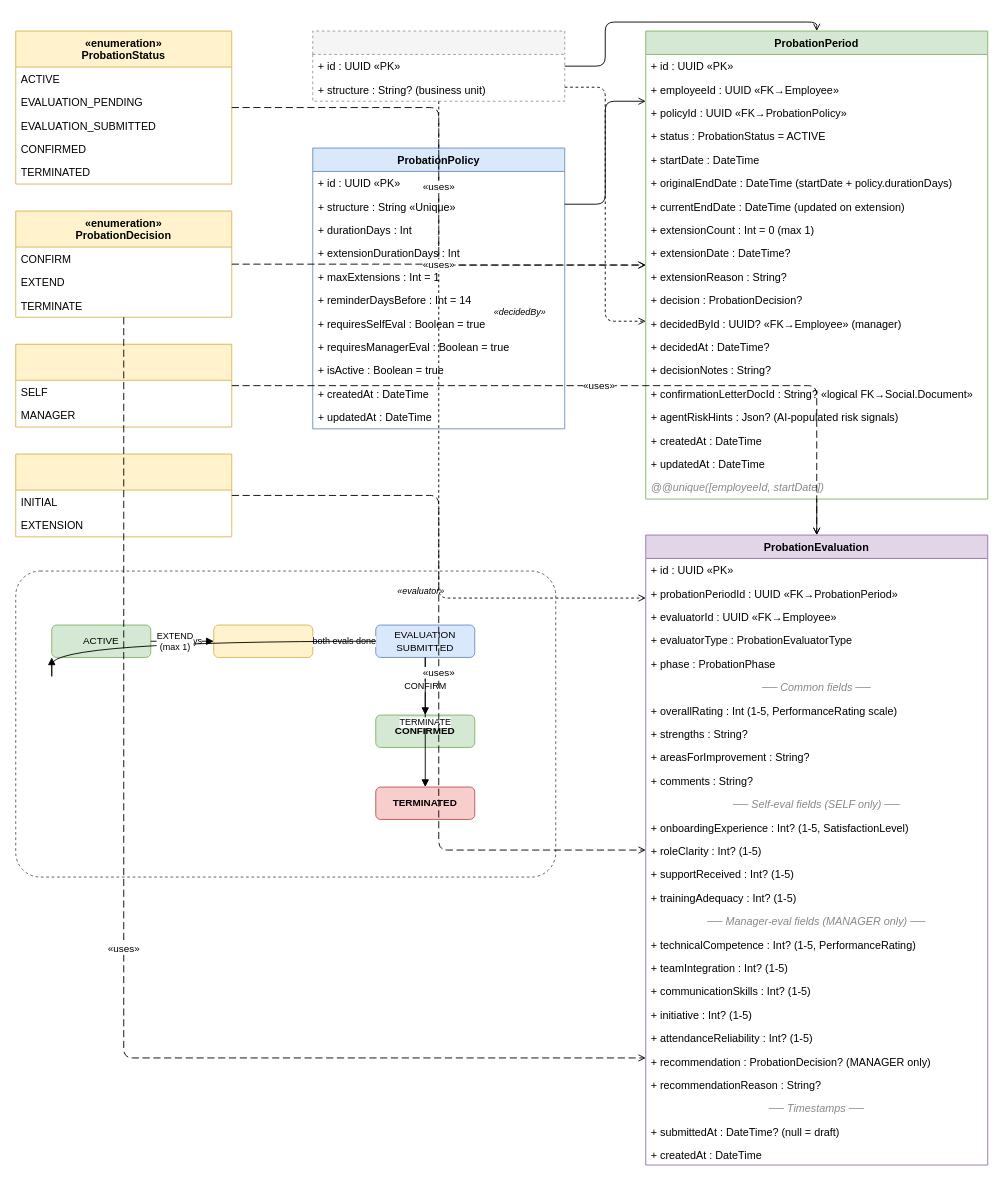
The diagram is 1004 pixels wide and 1183 high, and some of its shapes have lost their labels. The box of each missing label's shape, as (x1, y1, x2, y2) in pixels:
Employee: (312, 30, 565, 101)
EVALUATION PENDING: (213, 624, 313, 657)
Probation State Machine: (15, 570, 556, 877)
«enumeration» ProbationEvaluatorType: (15, 343, 232, 427)
«enumeration» ProbationPhase: (15, 453, 232, 537)
